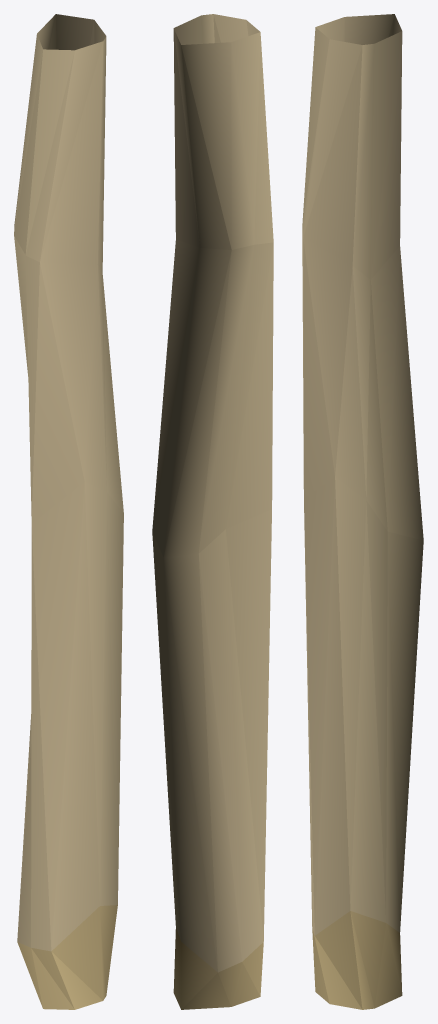
3 renders of one model, left to right at view 1: azimuth 30°, elevation 25°; view 2: azimuth 150°, elevation 25°; view 3: azimuth 330°, elevation 25°, orthographic.
Parts seen in each view (by area): view 1: model; view 2: model; view 3: model.
Part boxes in pixels (left/top/right/bottom): model: left=14, top=14, right=123, bottom=1009; model: left=152, top=14, right=273, bottom=1009; model: left=302, top=14, right=423, bottom=1009.
Bounding box in the file's own units: 0.2109 × 1.88 × 0.1641.
